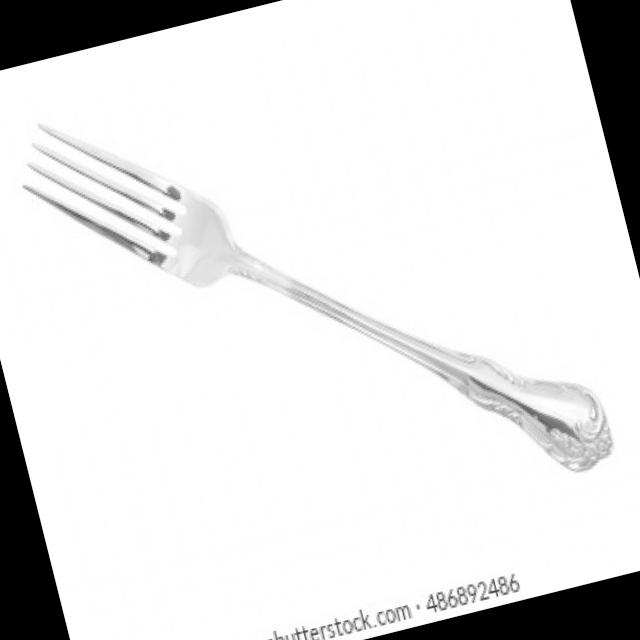fork: (2, 0, 624, 593)
